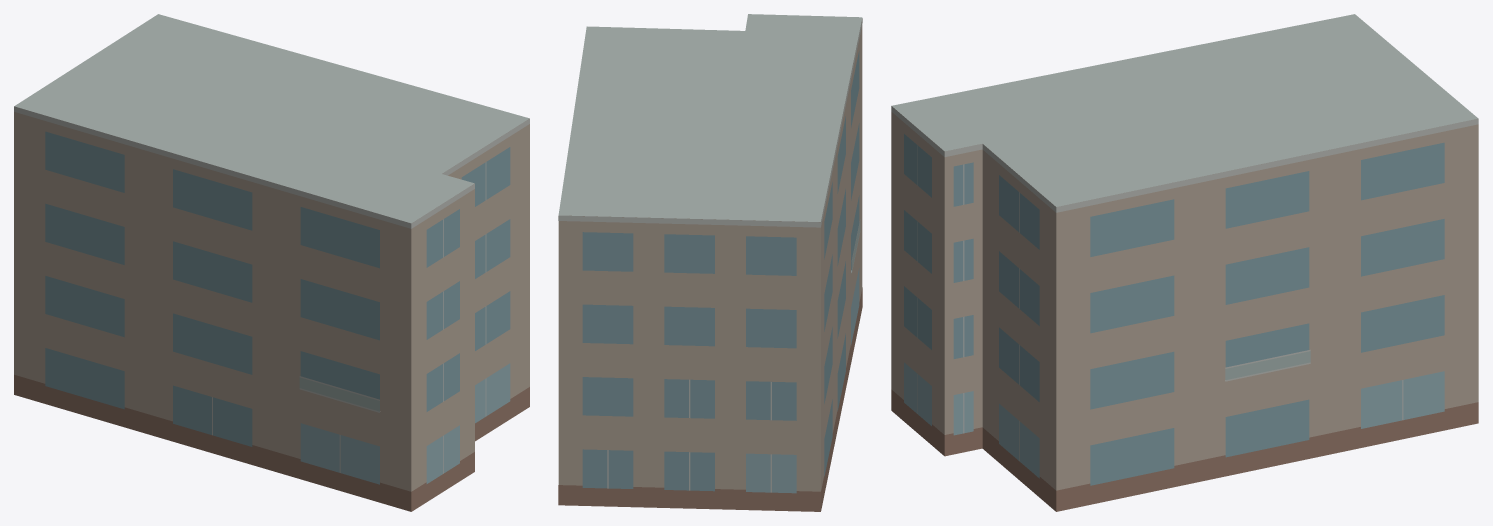
The model's file is survey-upis-32708169.glb.
3 renders of one model, left to right at view 1: azimuth 30°, elevation 25°; view 2: azimuth 150°, elevation 25°; view 3: azimuth 270°, elevation 25°, orthographic. The views are drawn at different scales.
Parts seen in each view (by area): view 1: survey-upis-32708169.tmp; view 2: survey-upis-32708169.tmp; view 3: survey-upis-32708169.tmp.
Boxes of the visible parts, box(x1,y1,x2,y2) form: survey-upis-32708169.tmp: box(14, 14, 529, 511); survey-upis-32708169.tmp: box(558, 14, 862, 511); survey-upis-32708169.tmp: box(891, 14, 1478, 511).
Bounding box in the file's own units: 17.53 × 12.9 × 22.53.
